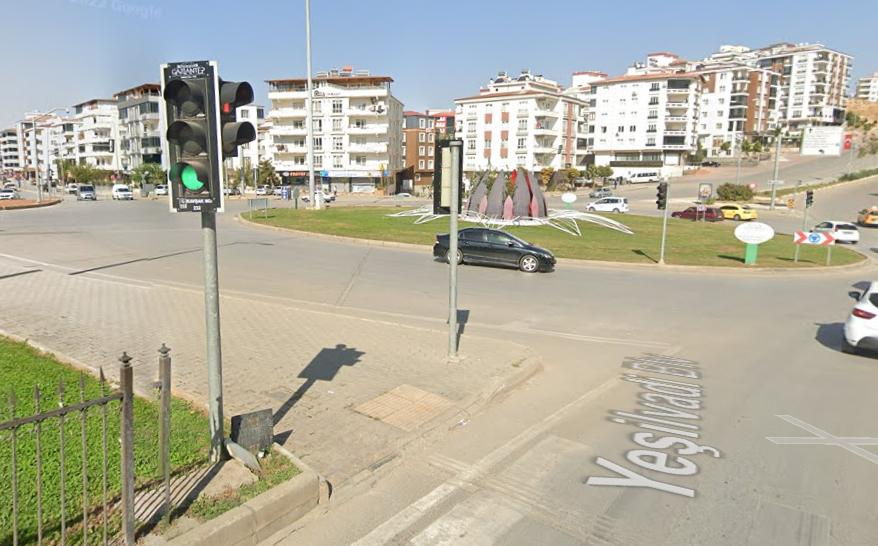greenlight: (169, 61, 222, 207)
redlight: (220, 72, 258, 177)
